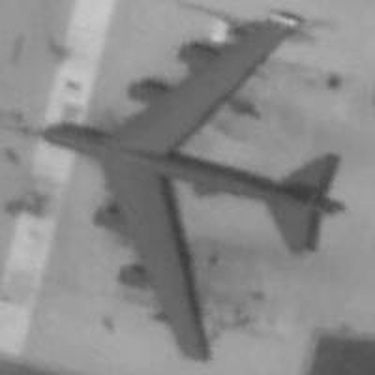airplane: (15, 3, 363, 362)
